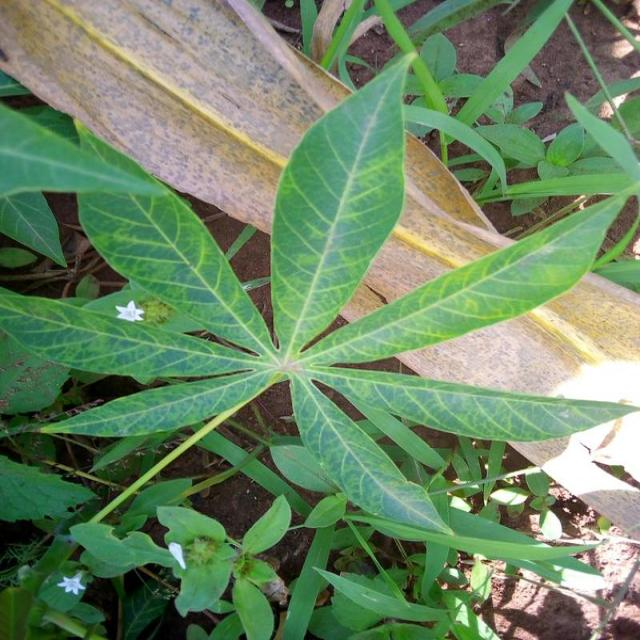cassava leaf: (0, 4, 638, 635), (268, 49, 415, 357)
